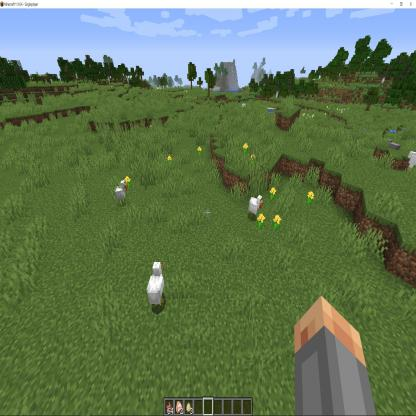minecraft-pigs: (145, 258, 169, 312), (248, 193, 265, 225), (115, 177, 128, 208)
